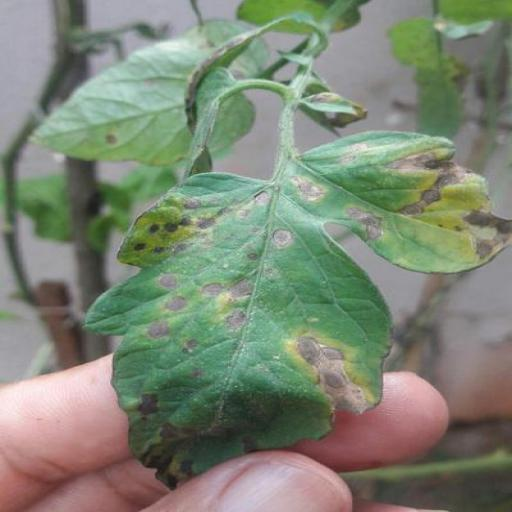Early Blight: (84, 127, 512, 490)
